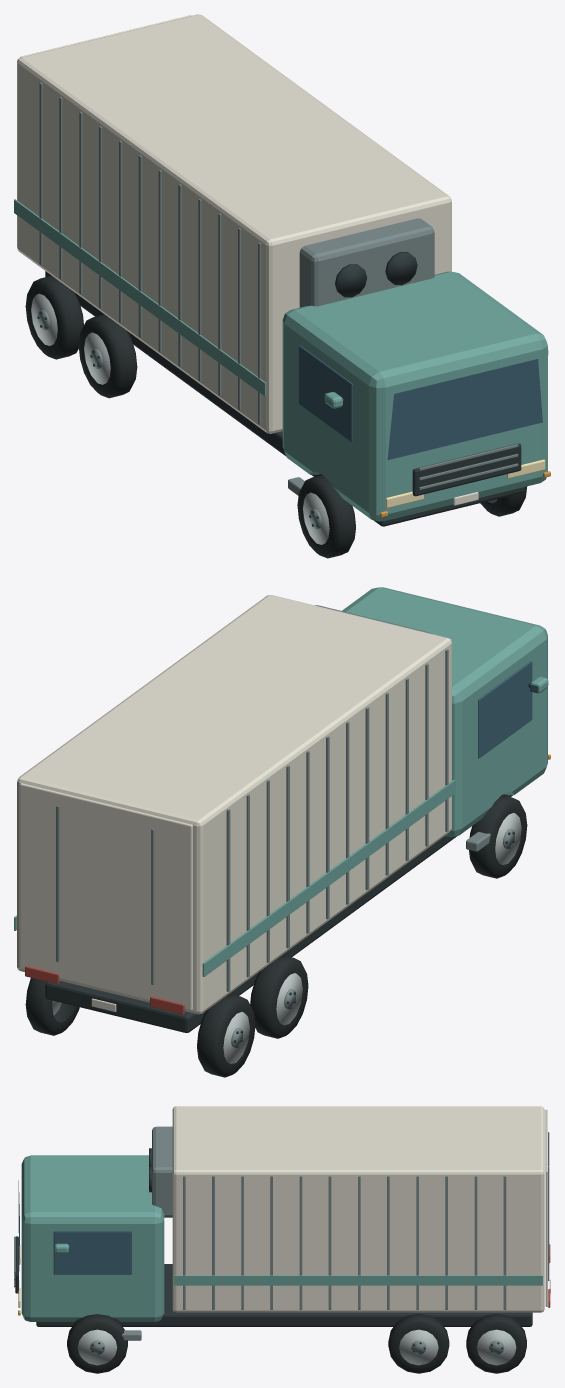
File: original-truck-fridge-03.glb
3 renders of one model, top to bottom at view 1: azimuth 30°, elevation 25°; view 2: azimuth 150°, elevation 25°; view 3: azimuth 270°, elevation 25°, orthographic. The views are drawn at different scales.
Visible parts, largest first — view 1: CargoBox, TruckCab, TruckWindscreen, RefrigeratorUnit, ColdStripe, CabSideGlass, Tyre_A2R, Tyre_RR, Frame, Tyre_FR, CabGrille, Rim_A2R (+17 smaller); view 2: CargoBox, CargoRearDoors, TruckCab, Frame, ColdStripe, CabSideGlass, Tyre_RR, Tyre_A2R, Tyre_FR, Tyre_RL, Rim_A2R, Rim_FR (+15 smaller); view 3: CargoBox, TruckCab, Frame, ColdStripe.001, CabSideGlass.001, Tyre_A2L, Tyre_RL, Tyre_FL, RefrigeratorUnit, Rim_RL, Rim_A2L, Rim_FL (+13 smaller).
Part boxes in pixels (<box>): CargoBox: <box>17,14,451,433</box>; TruckCab: <box>282,271,547,521</box>; TruckWindscreen: <box>387,359,542,459</box>; RefrigeratorUnit: <box>299,218,434,307</box>; ColdStripe: <box>14,199,266,396</box>; CabSideGlass: <box>298,345,352,442</box>; Tyre_A2R: <box>78,314,137,398</box>; Tyre_RR: <box>25,275,83,359</box>; Frame: <box>45,271,524,526</box>; Tyre_FR: <box>297,475,355,558</box>; CabGrille: <box>412,443,521,496</box>; Rim_A2R: <box>84,332,110,384</box>; CargoBox: <box>17,595,451,1014</box>; CargoRearDoors: <box>20,783,192,1010</box>; TruckCab: <box>342,587,547,836</box>; Frame: <box>45,794,512,1032</box>; ColdStripe: <box>202,780,455,976</box>; CabSideGlass: <box>478,661,532,758</box>; Tyre_RR: <box>197,994,255,1077</box>; Tyre_A2R: <box>250,955,308,1038</box>; Tyre_FR: <box>469,795,527,878</box>; Tyre_RL: <box>25,978,79,1035</box>; Rim_A2R: <box>276,973,302,1025</box>; Rim_FR: <box>495,813,521,864</box>; CargoBox: <box>172,1106,544,1312</box>; TruckCab: <box>21,1155,164,1321</box>; Frame: <box>36,1264,532,1326</box>; ColdStripe.001: <box>174,1275,542,1285</box>; CabSideGlass.001: <box>53,1231,131,1274</box>; Tyre_A2L: <box>388,1313,449,1373</box>; Tyre_RL: <box>466,1313,526,1373</box>; Tyre_FL: <box>67,1314,127,1373</box>; RefrigeratorUnit: <box>152,1126,172,1217</box>; Rim_RL: <box>477,1329,516,1365</box>; Rim_A2L: <box>399,1329,438,1365</box>; Rim_FL: <box>77,1329,117,1365</box>.
Bounding box in the file's own units: 2.83 × 3.45 × 8.29.
